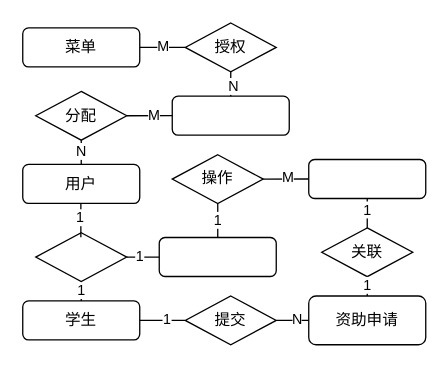
This 448x368 diagram has some shape labels left out. Each missing label, with the centre of its shape:
"教师" goes at [217,256].
"继承" goes at [80,256].
"角色" goes at [230,115].
"资助发放" goes at [366,178].
